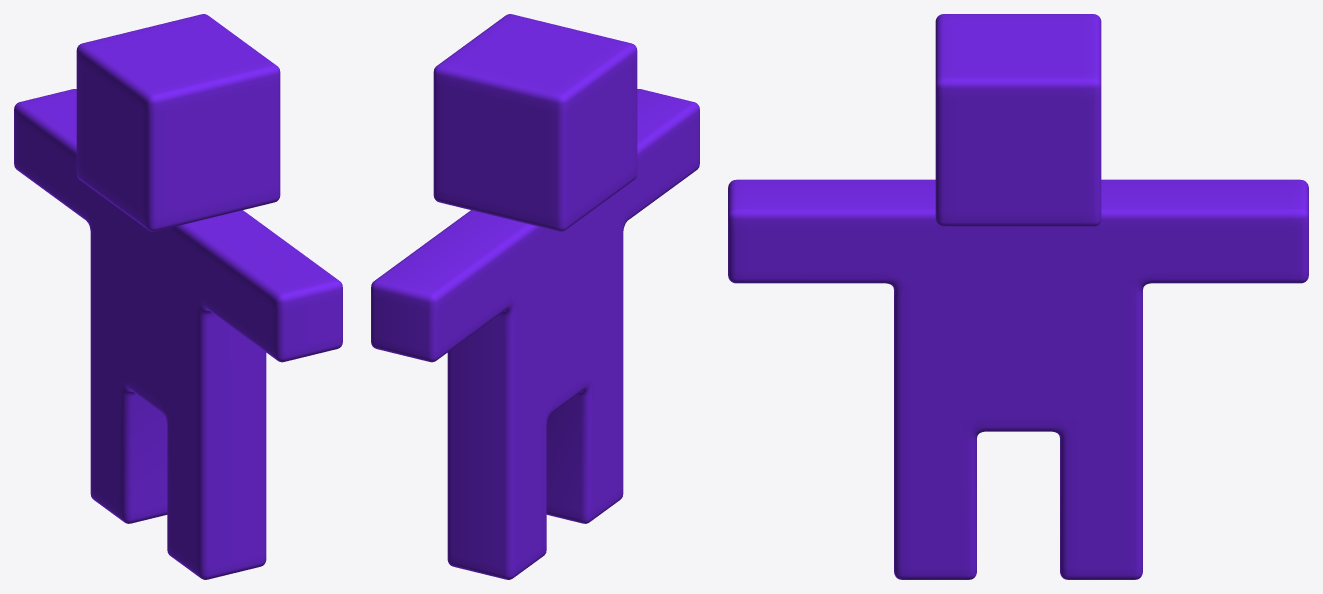
Rendered from Accessibility Blocky.glb.
3 views of the same model, side by side, from view 1: azimuth 30°, elevation 25°; view 2: azimuth 150°, elevation 25°; view 3: azimuth 270°, elevation 25° (orthographic). The views are drawn at different scales.
Visible parts, largest first — view 1: dude; view 2: dude; view 3: dude.
Boxes of the visible parts, bbox=[...] form: dude: bbox=[14, 14, 342, 579]; dude: bbox=[371, 14, 699, 579]; dude: bbox=[728, 14, 1308, 579].
Bounding box in the file's own units: 2 × 6.9 × 7.
